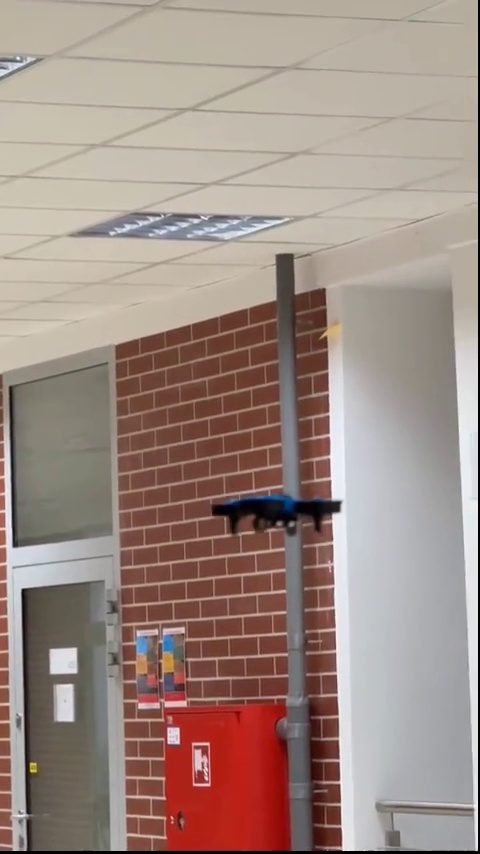drone: (211, 493, 345, 540)
